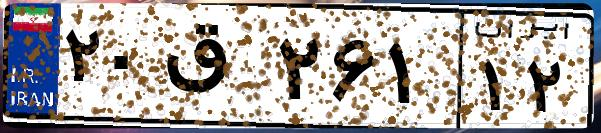0: (110, 28, 158, 98)
1: (385, 28, 445, 110), (475, 38, 525, 113)
2: (270, 28, 330, 110), (57, 26, 110, 100), (525, 38, 570, 115)
6: (330, 28, 385, 110)
ق: (158, 20, 270, 120)
